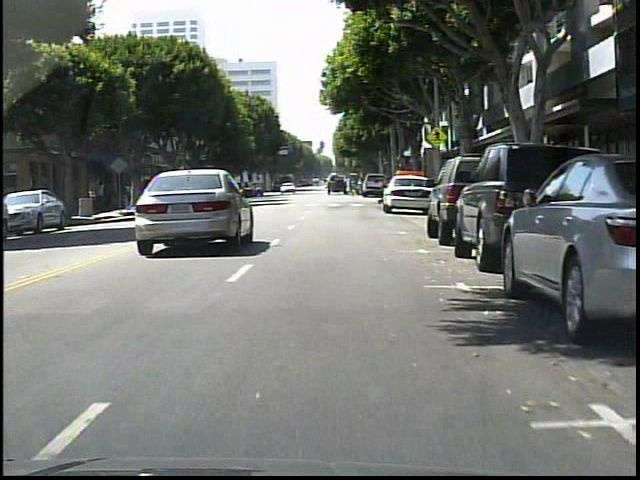person: (95, 177, 108, 213), (126, 180, 134, 206), (349, 174, 350, 195)
